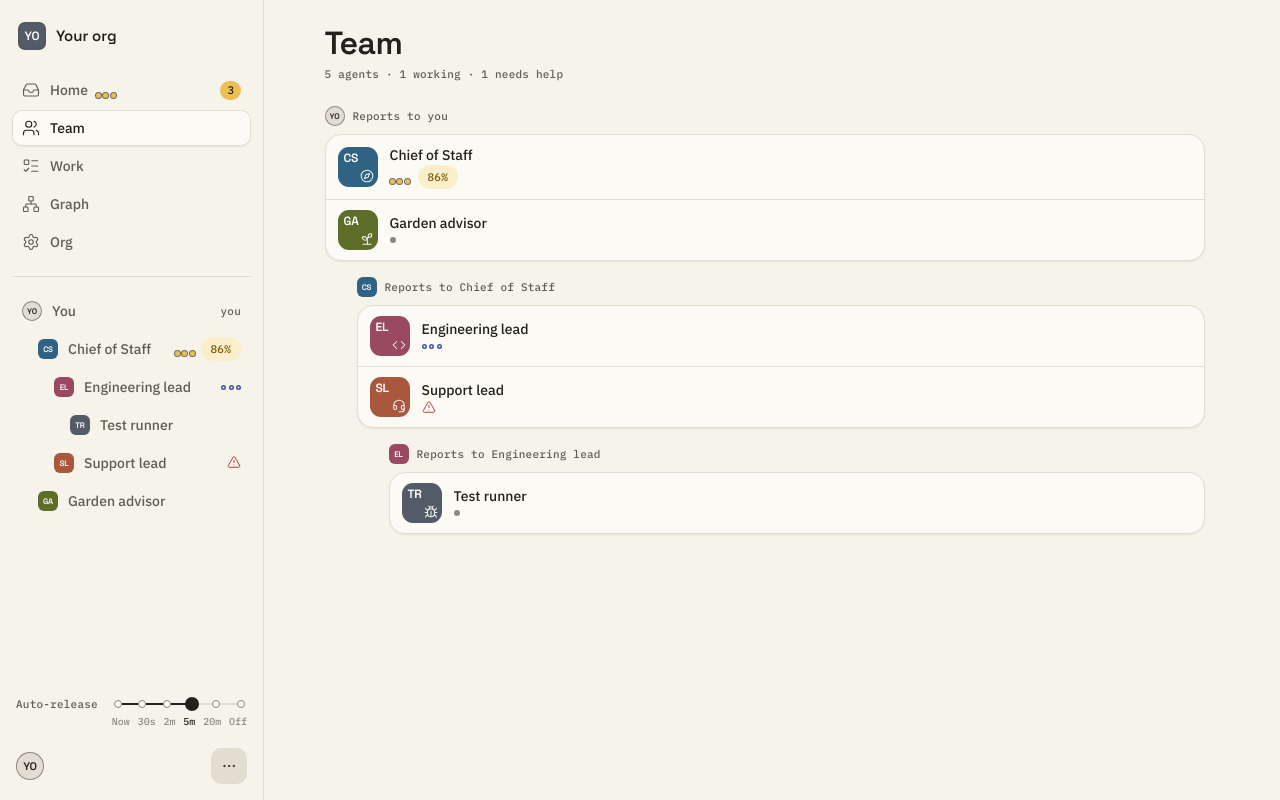
Scenario: Frame › puts the slider back and says what happened when the write fails
The image size is (1280, 800).
Check: the link "CS Chief of Staff 86%" below "Graph" is shown, box top-left (38, 337), bottom-right (241, 361)
Click the radio button named "Off". click: (241, 704)
box: top-left (237, 700), bottom-right (245, 708)
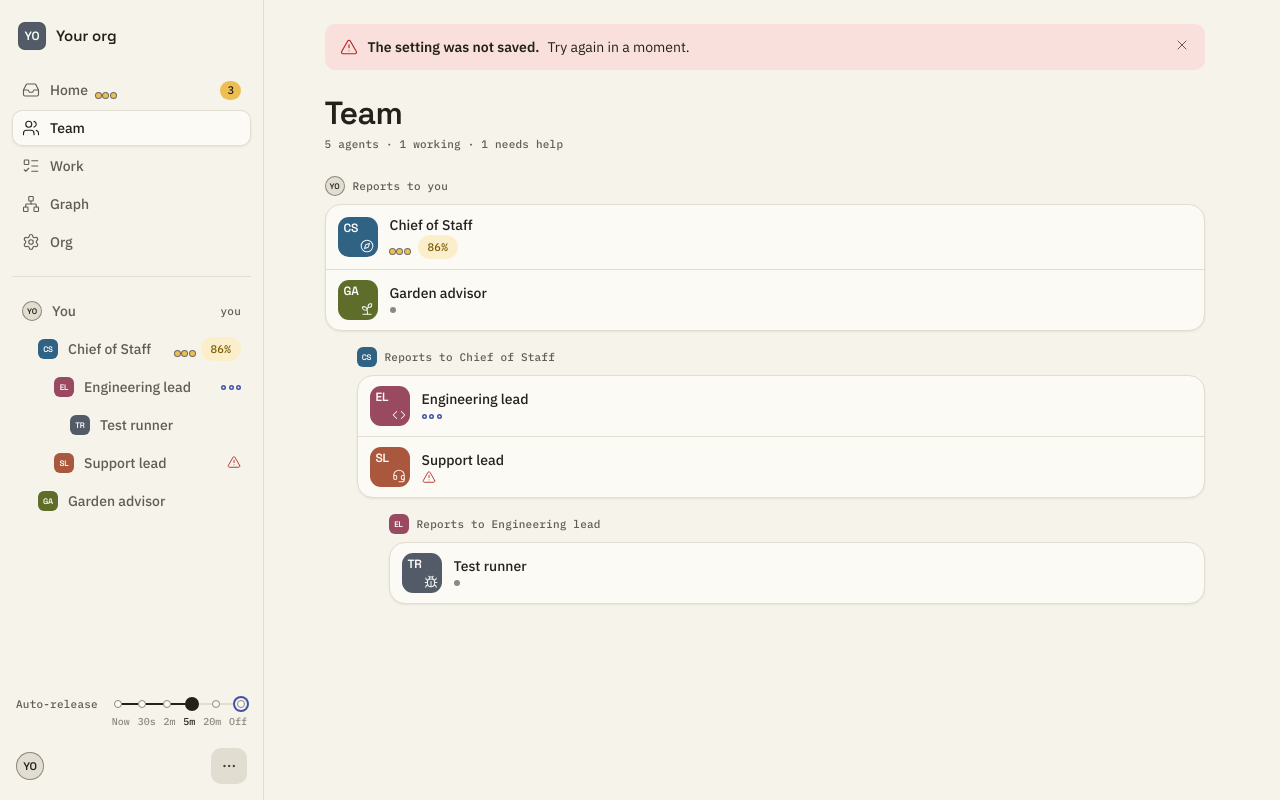
Check: the radio button named "5m" is checked, box top-left (188, 700), bottom-right (196, 708)
Check: the text "The setting was not saved." is shown, box top-left (368, 37), bottom-right (540, 57)
Check: the text "Try again in a moment." is shown, box top-left (548, 37), bottom-right (690, 57)
